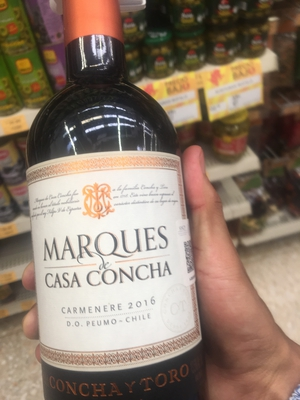marques de casa concha carmenere: (24, 22, 210, 396)
